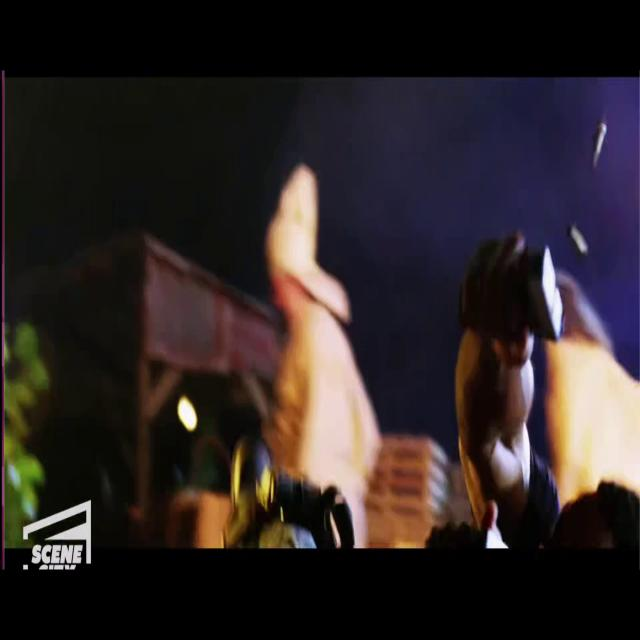weapons: (456, 213, 571, 359)
